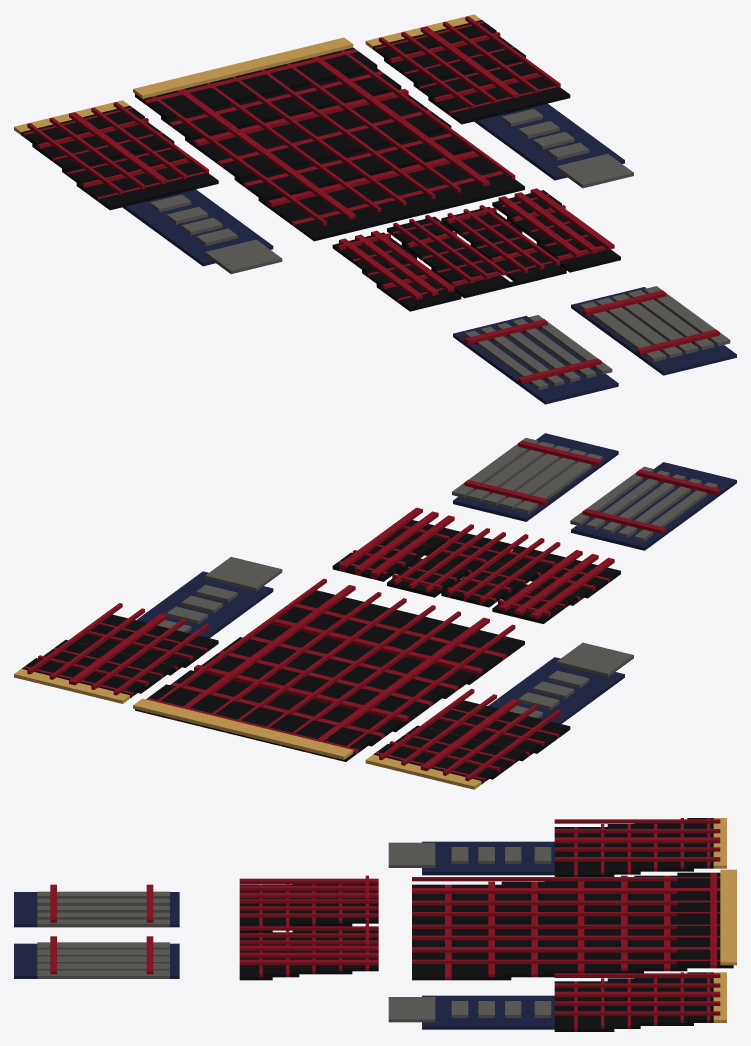
The model's file is armor_samurai.glb.
3 views of the same model, one above another, from view 1: azimuth 30°, elevation 25°; view 2: azimuth 150°, elevation 25°; view 3: azimuth 270°, elevation 25° (orthographic). The views are drawn at different scales.
Parts seen in each view (by area): view 1: armor_samurai:compound; view 2: armor_samurai:compound; view 3: armor_samurai:compound.
Part boxes in pixels (<box>): armor_samurai:compound: <box>14,14,736,404</box>; armor_samurai:compound: <box>14,433,736,789</box>; armor_samurai:compound: <box>14,818,736,1031</box>.
Bounding box in the file's own units: 0.864 × 0.042 × 1.31.
